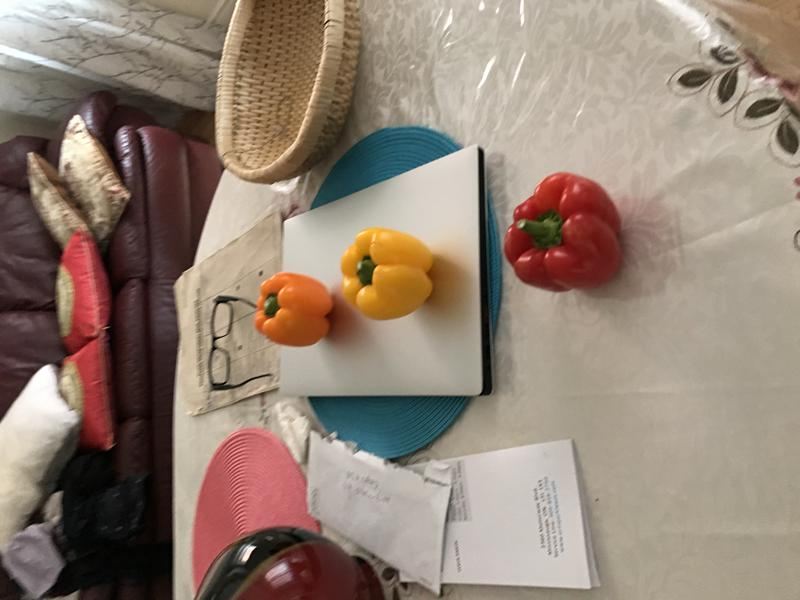orange_pepper: (248, 270, 336, 352)
red_pepper: (497, 163, 629, 300)
yellow_pepper: (336, 223, 438, 322)
